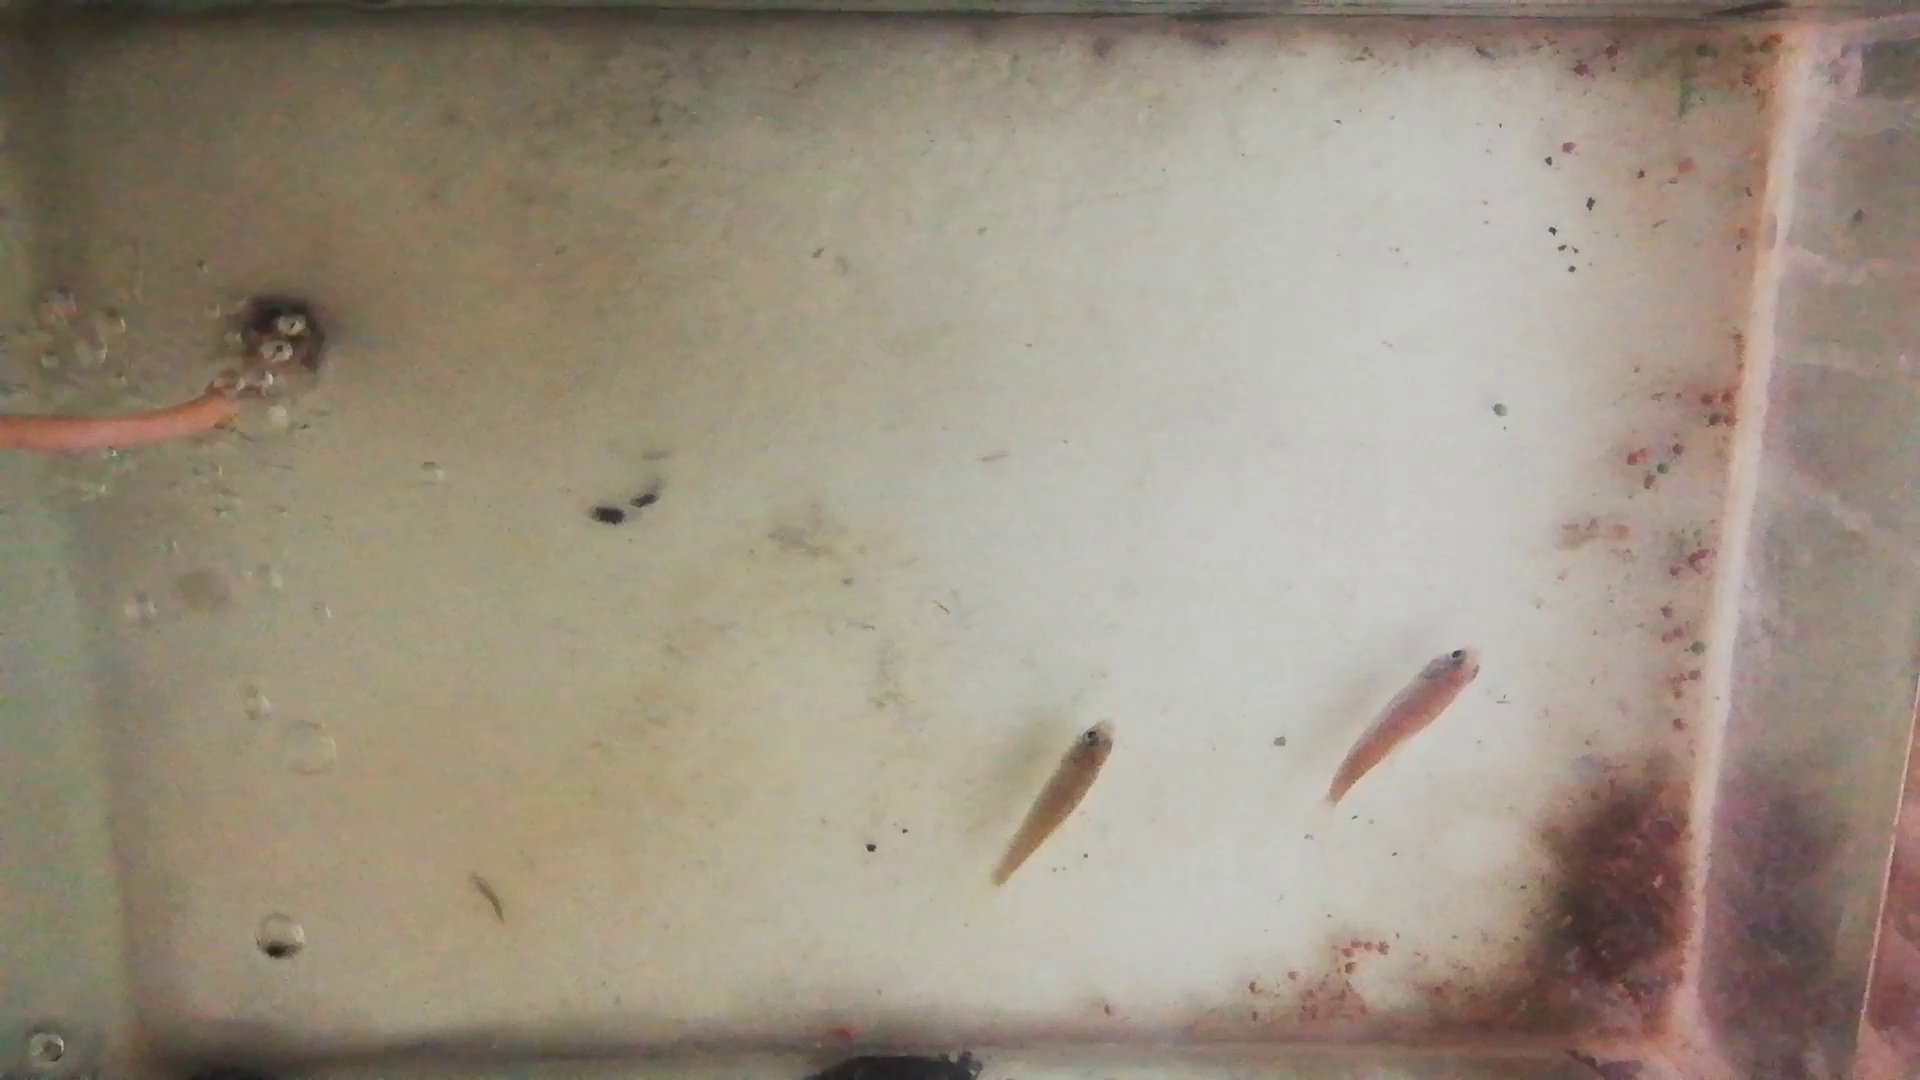fish: (1328, 647, 1480, 804), (993, 717, 1117, 887)
